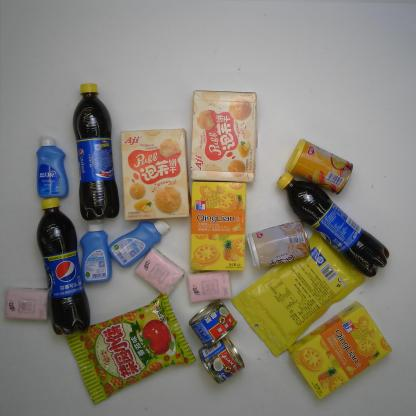Canned Food: (286, 138, 354, 196), (245, 219, 311, 272), (188, 298, 238, 349), (198, 335, 244, 385)
Dessert: (287, 299, 393, 402), (120, 127, 192, 221), (190, 89, 258, 183), (189, 180, 247, 272)
Dried Fruit: (230, 229, 367, 359)
Drink: (276, 171, 390, 278), (36, 196, 91, 336), (72, 81, 121, 221)
Personal Hygiene: (107, 218, 172, 268), (78, 218, 112, 284), (35, 134, 70, 198)
Puffed Food: (65, 290, 197, 406)
Tissue: (134, 246, 186, 298), (4, 285, 51, 322), (186, 270, 233, 304)
